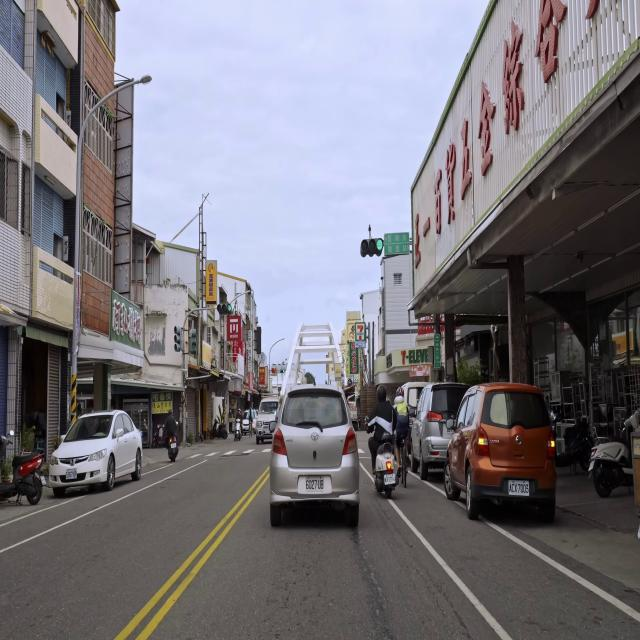green light: (360, 238, 383, 254), (216, 304, 232, 314)
